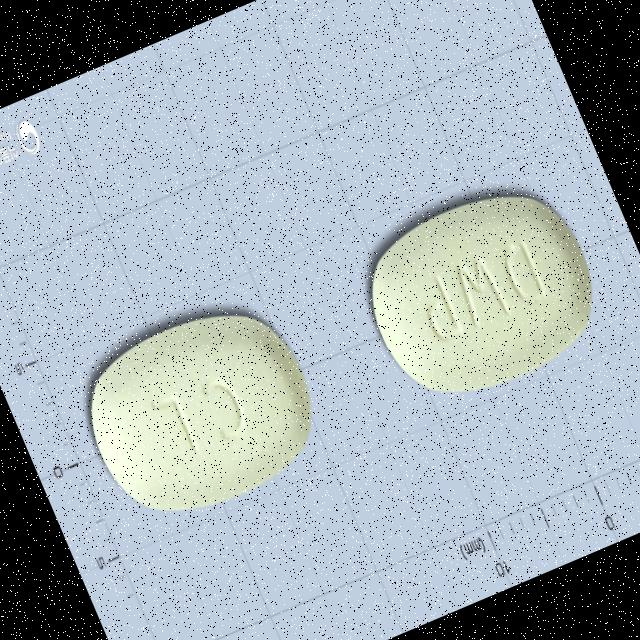Clacin: (338, 159, 622, 427), (61, 282, 341, 542)
